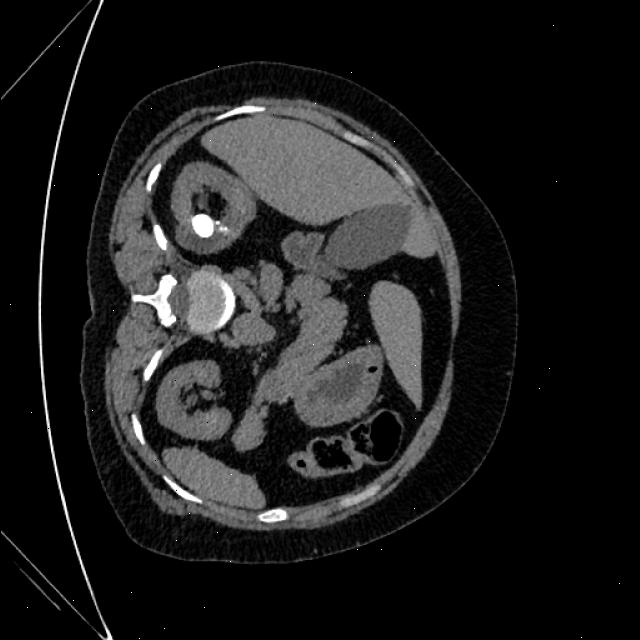kidneystone: (191, 214, 214, 238)
